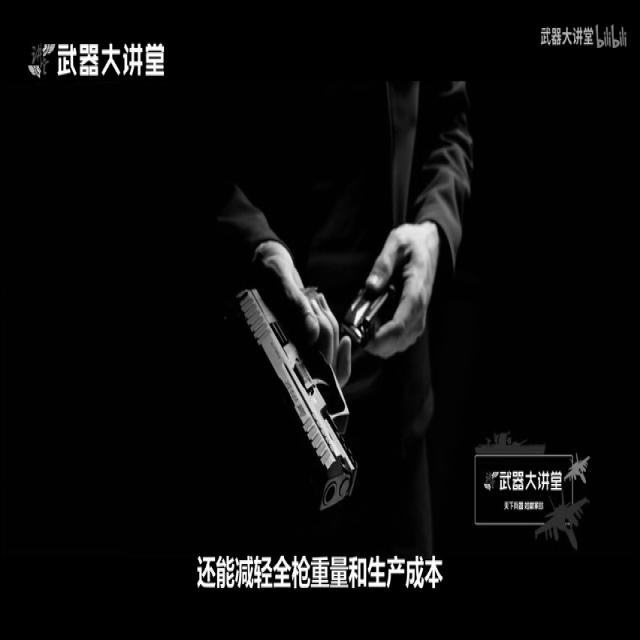Hand-Gun: (220, 184, 439, 570)
